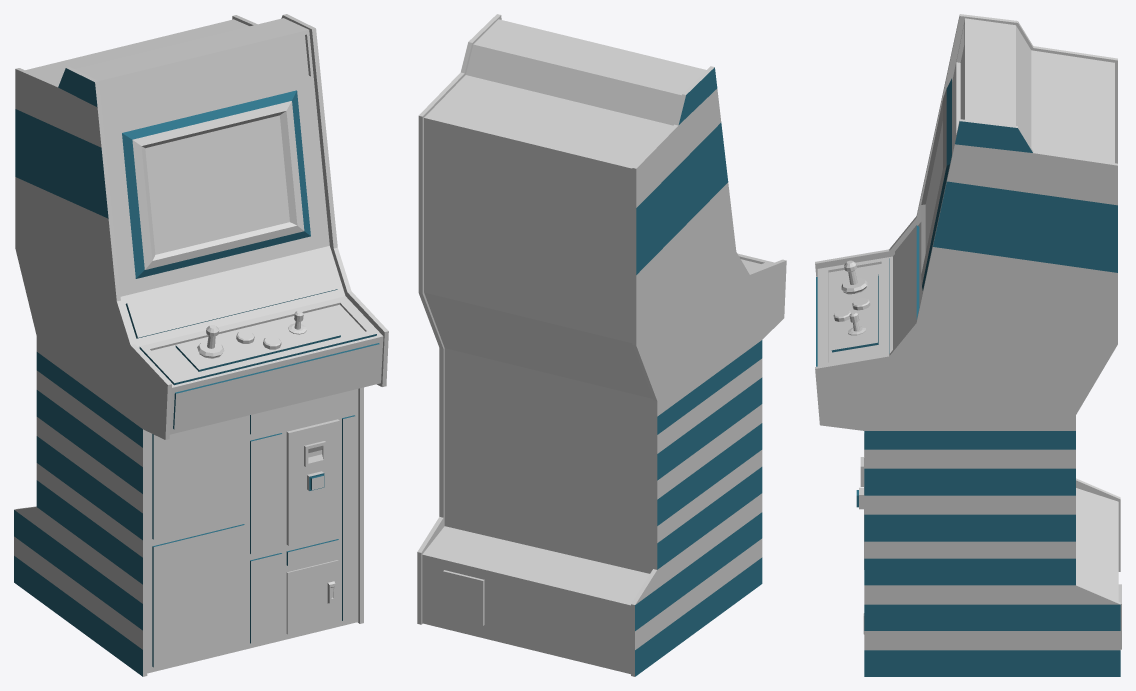
File: 02_arcade_machine_V4.glb
The picture shows the model from 3 angles, left to right: view 1: azimuth 30°, elevation 25°; view 2: azimuth 150°, elevation 25°; view 3: azimuth 270°, elevation 25°; orthographic projection.
Parts seen in each view (by area): view 1: ArcadeMachineV4; view 2: ArcadeMachineV4; view 3: ArcadeMachineV4.
Part boxes in pixels (x1,y1,x2,y2): ArcadeMachineV4: (14, 14, 388, 676); ArcadeMachineV4: (417, 14, 786, 676); ArcadeMachineV4: (815, 14, 1121, 676).
Bounding box in the file's own units: 0.9856 × 2.38 × 1.19.
